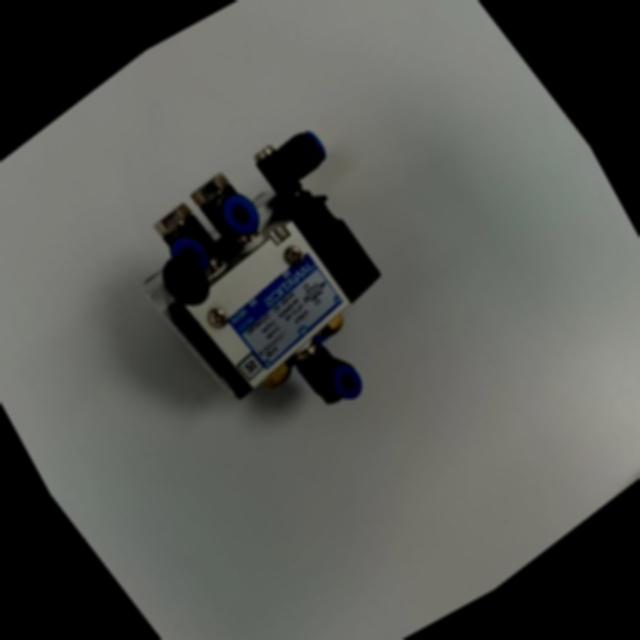5by2 DCV: (74, 67, 491, 498)
